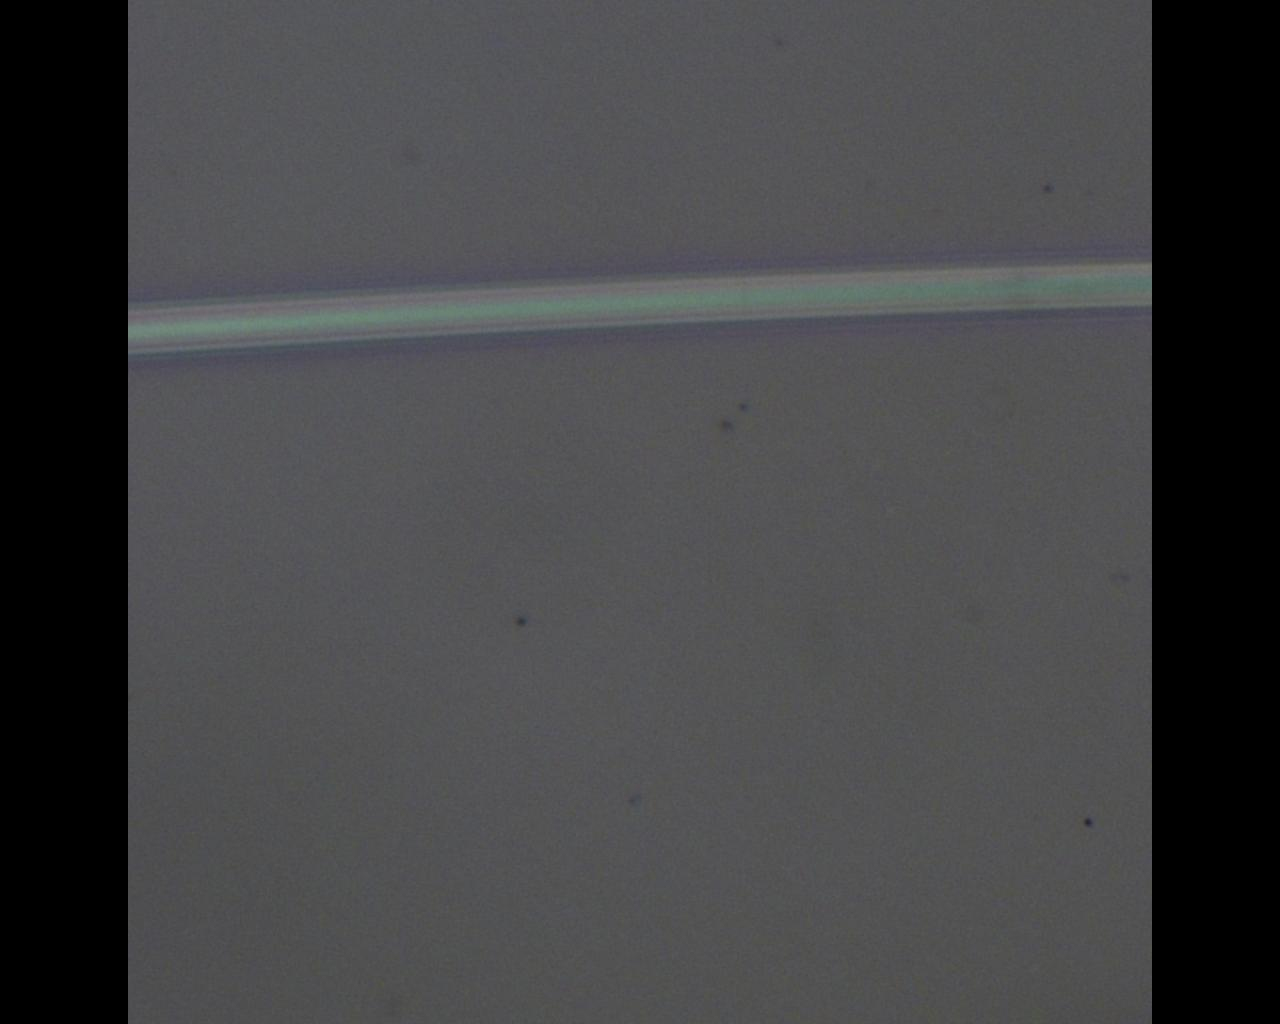fiber: (409, 0, 842, 1024)
